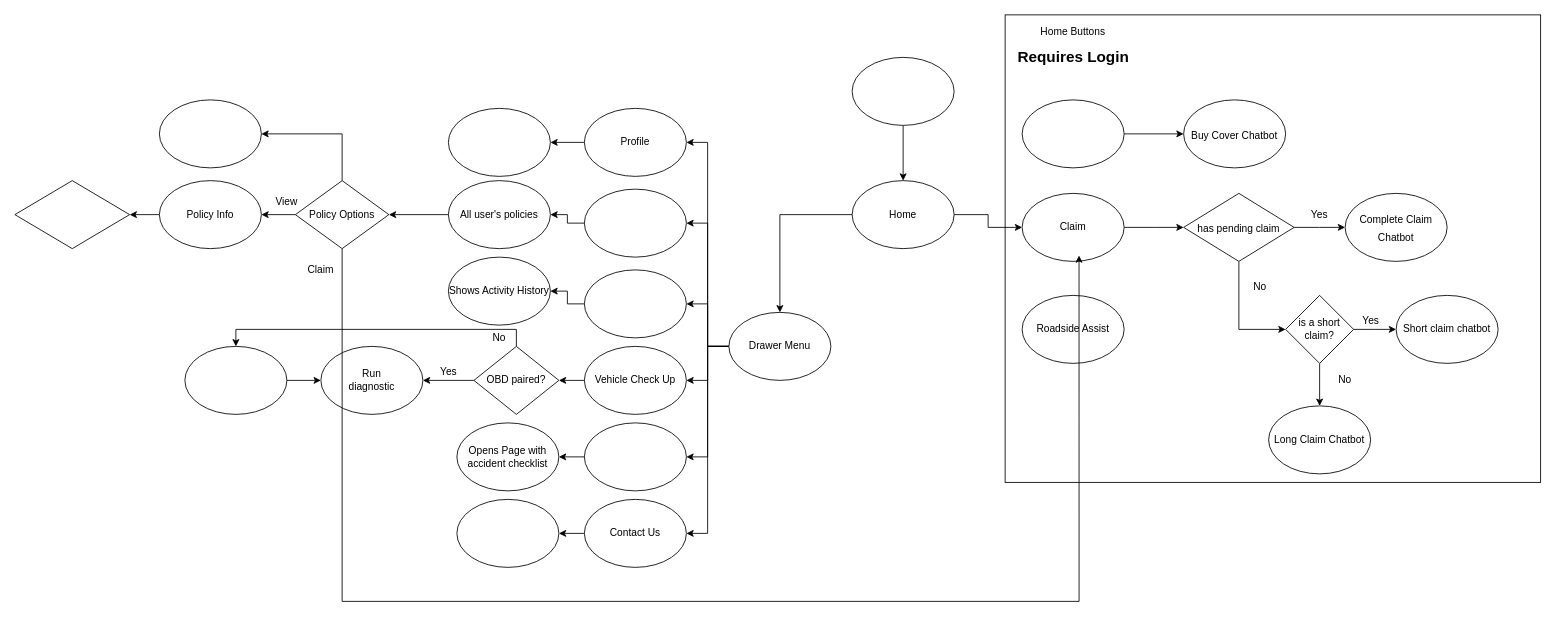
This 1556x623 diagram has some shape labels left out. Each missing label, with the centre of its shape:
Accident Checklist: the point at 635,456
Buy Cover: the point at 1072,133
Download Policy Schedule: the point at 72,214
History: the point at 635,303
Open App: the point at 902,91
Opens Whatsapp: the point at 507,533
Pair OBD: the point at 235,380
Policies: the point at 635,222
Self inspection chatbot: the point at 210,133
Update Profile: the point at 499,142
